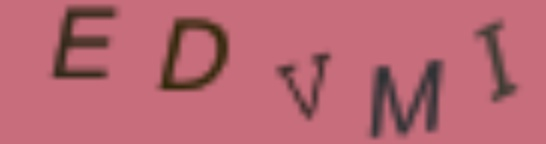D: (154, 15, 237, 92)
E: (48, 1, 127, 80)
I: (470, 15, 525, 107)
M: (368, 58, 446, 142)
V: (274, 49, 333, 123)
